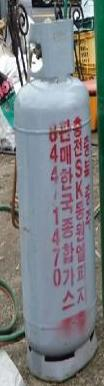cylinder: (1, 1, 104, 386)
